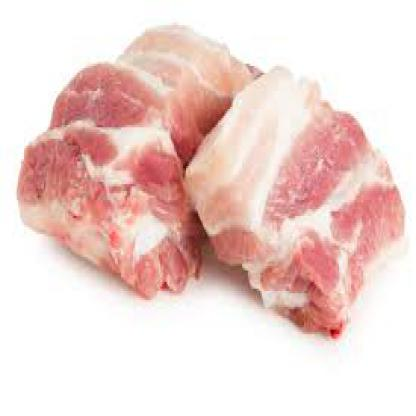pork: (203, 104, 396, 314), (37, 130, 204, 298), (70, 32, 248, 154)
